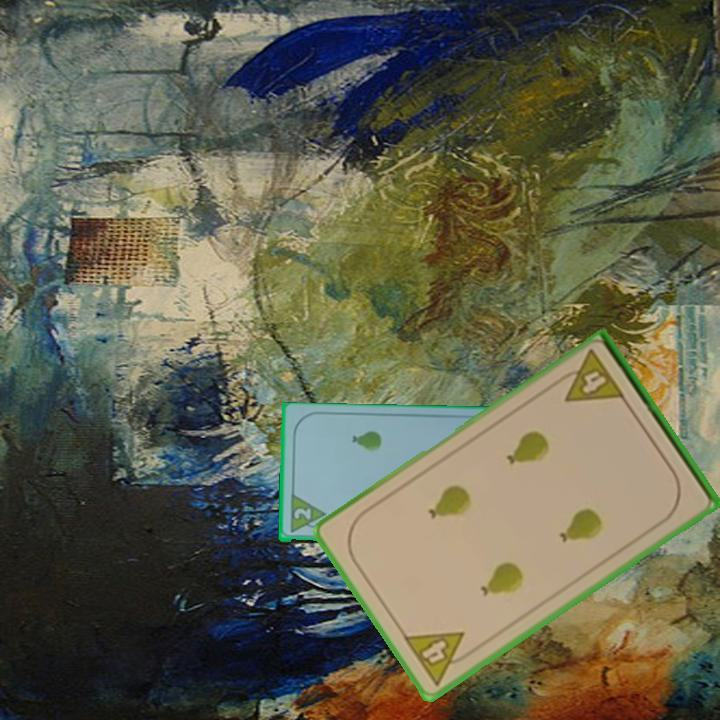2p: (290, 505, 314, 524)
4p: (399, 628, 479, 689), (551, 346, 627, 406)
